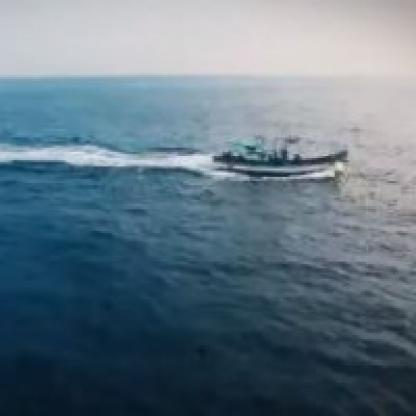fish-b: (212, 125, 354, 179)
